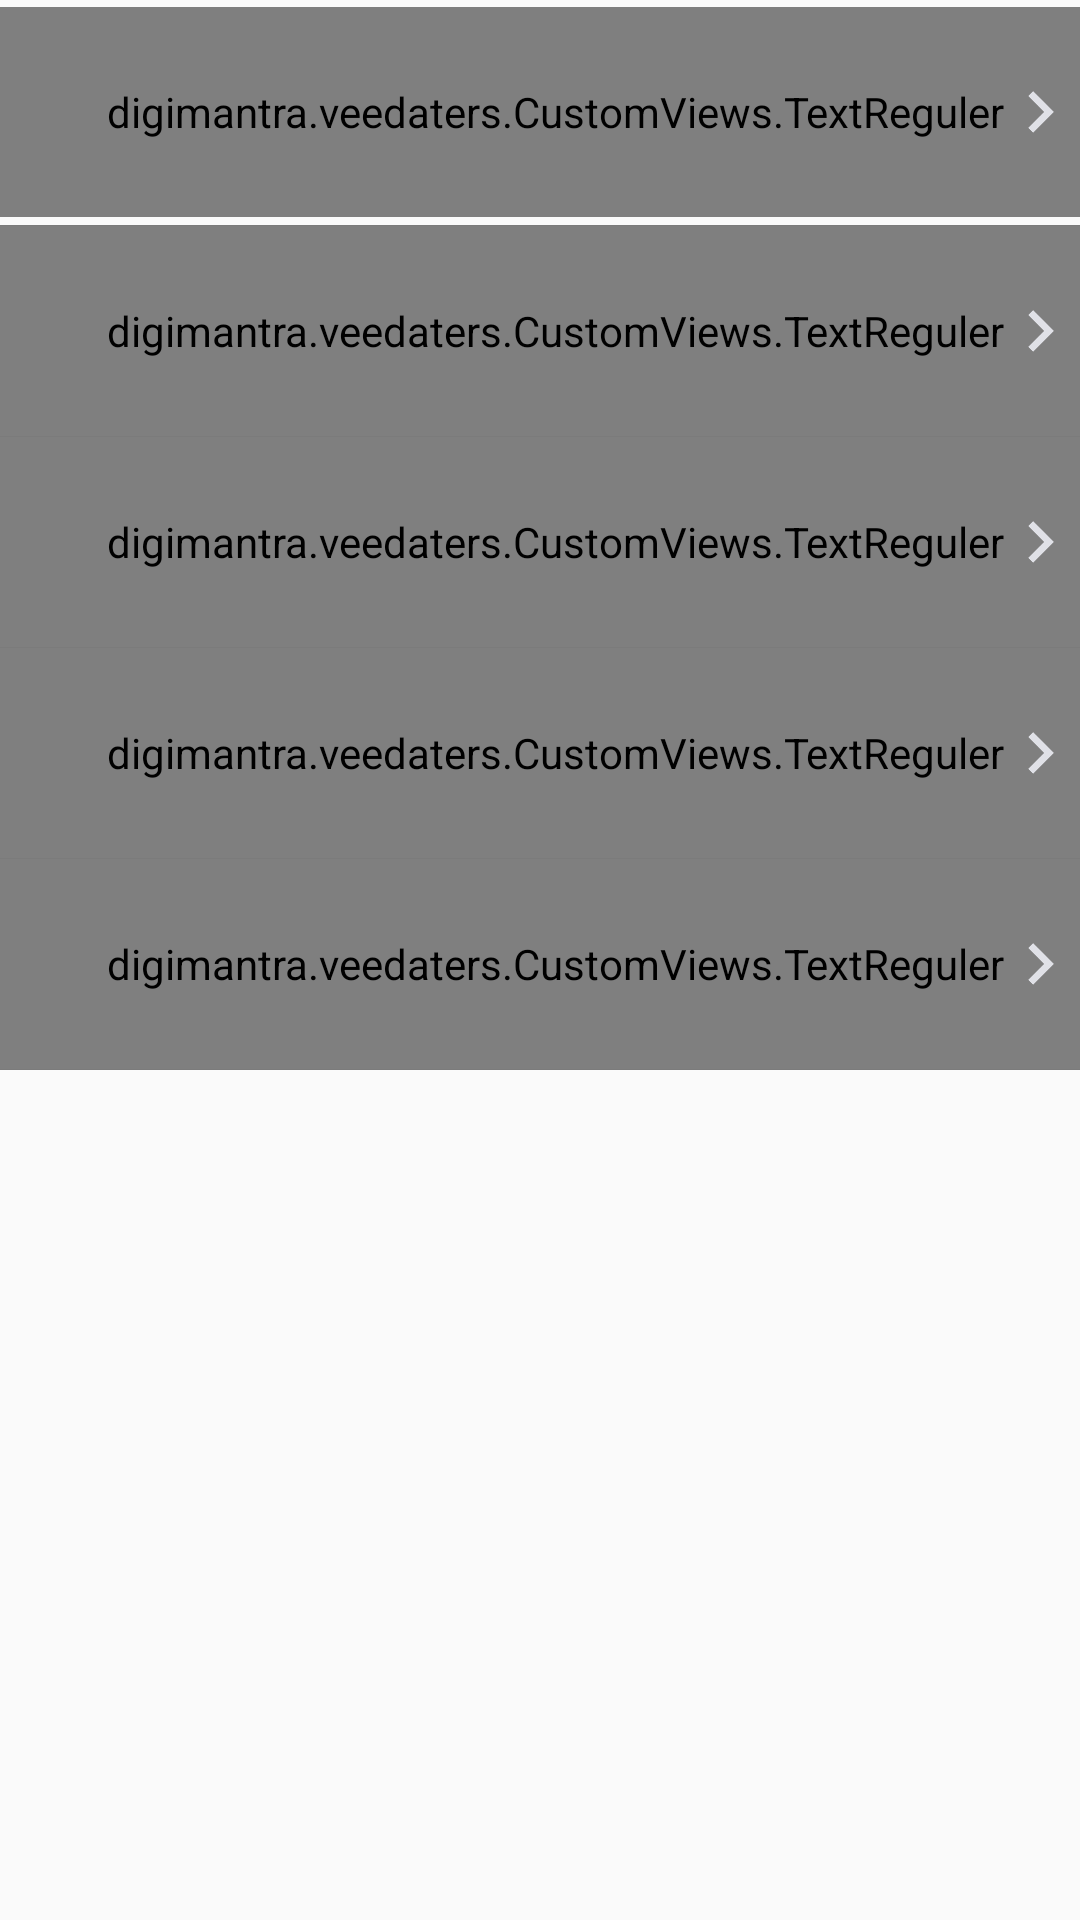

Locate icon controls on the screen. Image size 1080 x 1920, boxes as (x1, y1, x2, y2).
arrow: (1028, 91, 1054, 133), (1028, 310, 1054, 352), (1028, 521, 1054, 563), (1028, 732, 1054, 774), (1028, 943, 1054, 985)
